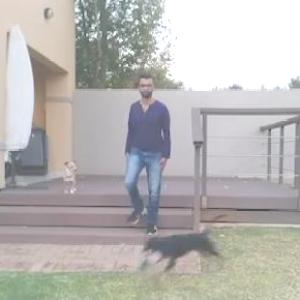follow: (126, 72, 172, 261)
